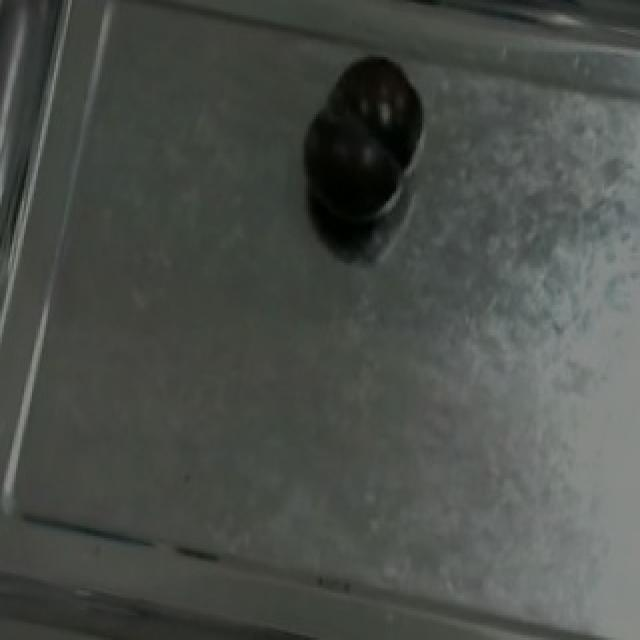Fruit: (290, 42, 434, 236)
